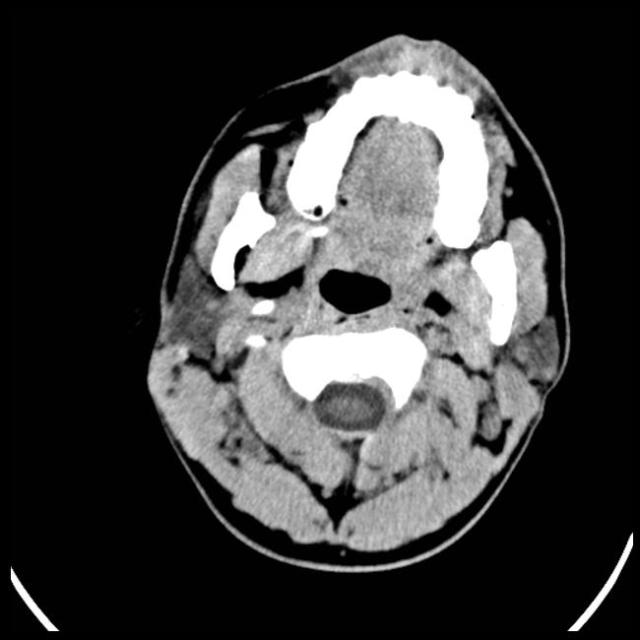lesion: (143, 36, 571, 566)
